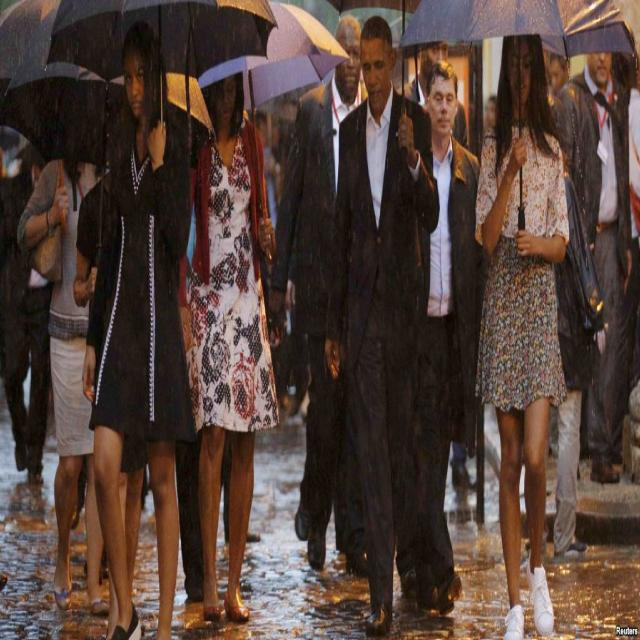body: (320, 8, 438, 633), (78, 10, 194, 639), (471, 21, 573, 639), (176, 70, 278, 625), (264, 14, 364, 571), (397, 54, 484, 624), (16, 157, 117, 619), (71, 92, 149, 640), (560, 46, 632, 488), (410, 57, 481, 494), (538, 138, 606, 569), (174, 425, 318, 616), (246, 91, 316, 422), (0, 153, 53, 494), (0, 49, 107, 152), (399, 491, 463, 628), (172, 116, 202, 330), (626, 75, 640, 385), (540, 44, 575, 94), (470, 86, 500, 142)
